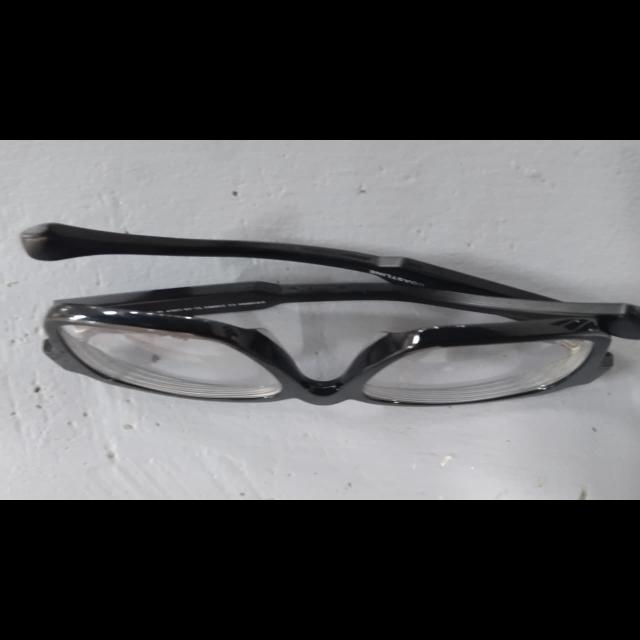glasses: (18, 221, 640, 407)
